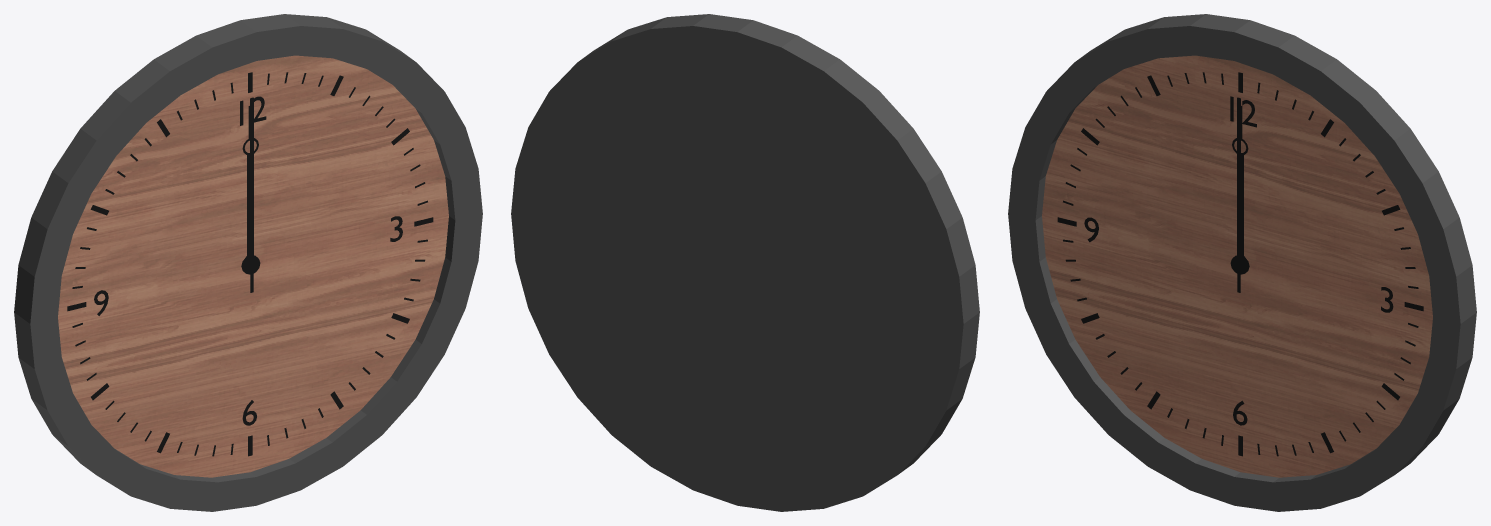
The model's file is basic_clock_ver1.0.fbx.
3 renders of one model, left to right at view 1: azimuth 30°, elevation 25°; view 2: azimuth 150°, elevation 25°; view 3: azimuth 330°, elevation 25°, orthographic.
Visible parts, largest first — view 1: wall_clock, Second; view 2: wall_clock; view 3: wall_clock, Second.
Part boxes in pixels (x1=…): wall_clock: x1=14, y1=14, x2=482, y2=511; Second: x1=243, y1=97, x2=260, y2=292; wall_clock: x1=511, y1=14, x2=979, y2=511; wall_clock: x1=1008, y1=14, x2=1476, y2=511; Second: x1=1230, y1=97, x2=1247, y2=292.
Bounding box in the file's own units: 0.2887 × 0.2887 × 0.018.
